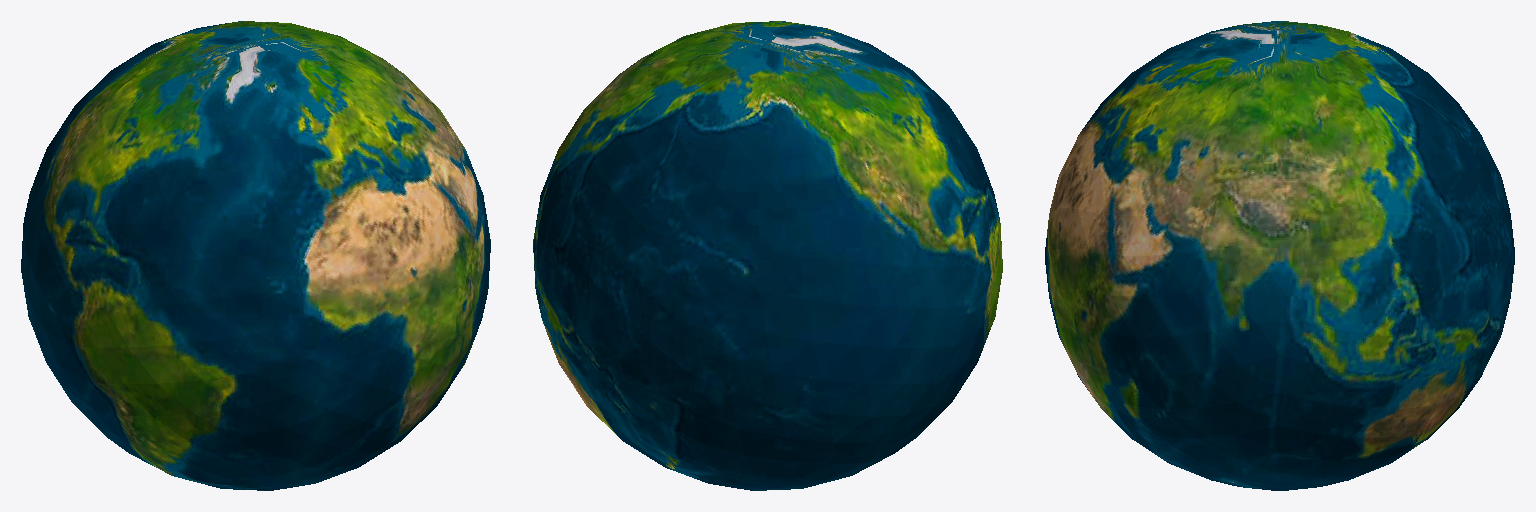
3 views of the same model, side by side, from view 1: azimuth 30°, elevation 25°; view 2: azimuth 150°, elevation 25°; view 3: azimuth 270°, elevation 25° (orthographic).
Visible parts, largest first — view 1: planete_planete.x; view 2: planete_planete.x; view 3: planete_planete.x.
Part boxes in pixels (x1,y1,x2,y2): planete_planete.x: (21, 21, 490, 490); planete_planete.x: (533, 21, 1002, 490); planete_planete.x: (1045, 21, 1514, 490).
Bounding box in the file's own units: 409 × 407 × 409.
1 materials, 1 textured.